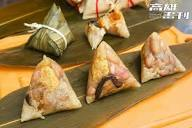zongzi: (21, 55, 81, 121), (85, 41, 140, 103), (24, 3, 73, 55), (140, 32, 185, 82)
